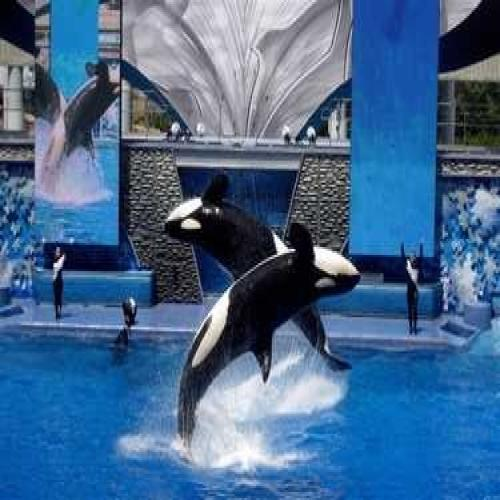killer_whale-endangered: (173, 230, 375, 459), (152, 172, 350, 372)
